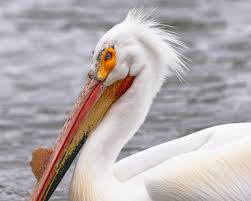pelican: (29, 14, 251, 196)
